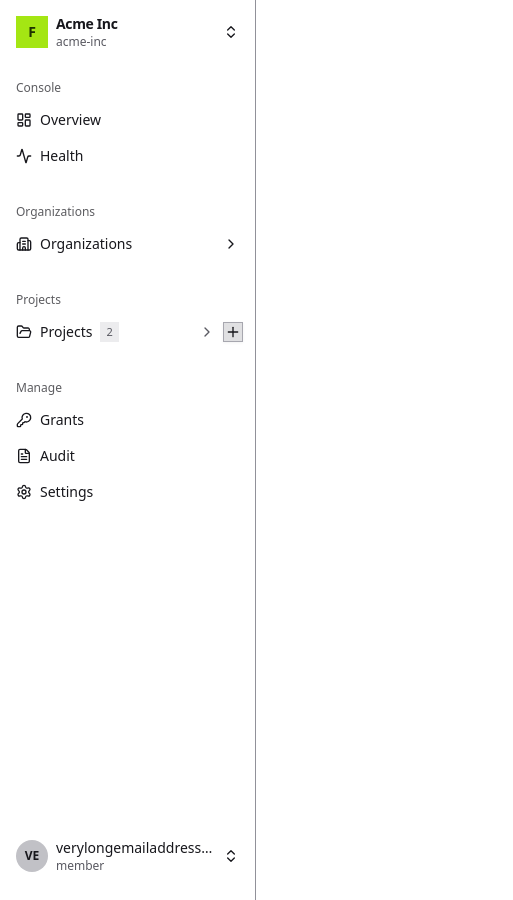
Test: sidebar user menu › opens the org switcher listing all orgs
Press the mouse on the button with aria-label "switch organization": coordinates (128, 32) [8,8,247,56]
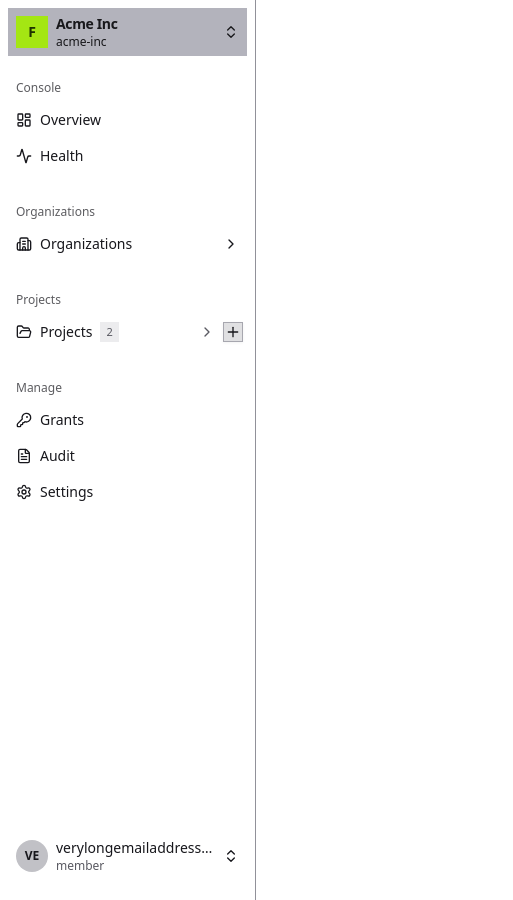
Click the button with aria-label "switch organization": coordinates (128, 32) [8,8,247,56]
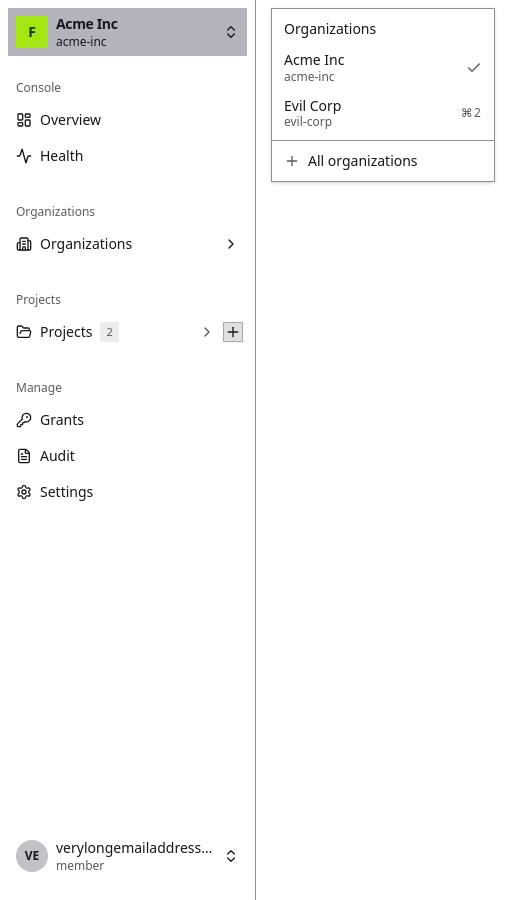
Now the menu item "Evil Corp evil-corp ⌘2" is shown, box [276,90,490,136]
